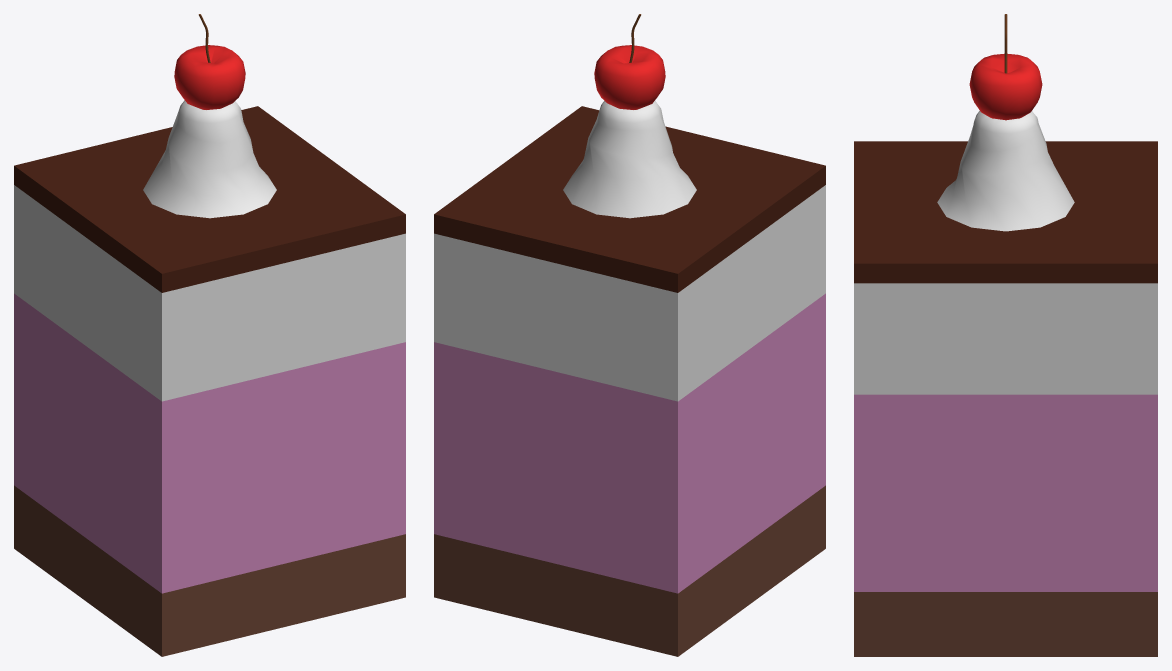
Rendered from Cake_whole.fbx.
The picture shows the model from 3 angles, left to right: view 1: azimuth 30°, elevation 25°; view 2: azimuth 150°, elevation 25°; view 3: azimuth 270°, elevation 25°; orthographic projection. The views are drawn at different scales.
Visible parts, largest first — view 1: Cake_whole; view 2: Cake_whole; view 3: Cake_whole.
Boxes of the visible parts, bbox=[...] form: Cake_whole: bbox=[14, 14, 405, 656]; Cake_whole: bbox=[434, 14, 825, 656]; Cake_whole: bbox=[854, 14, 1157, 656].
Size of the model in its own units: 400 by 879 by 420.
